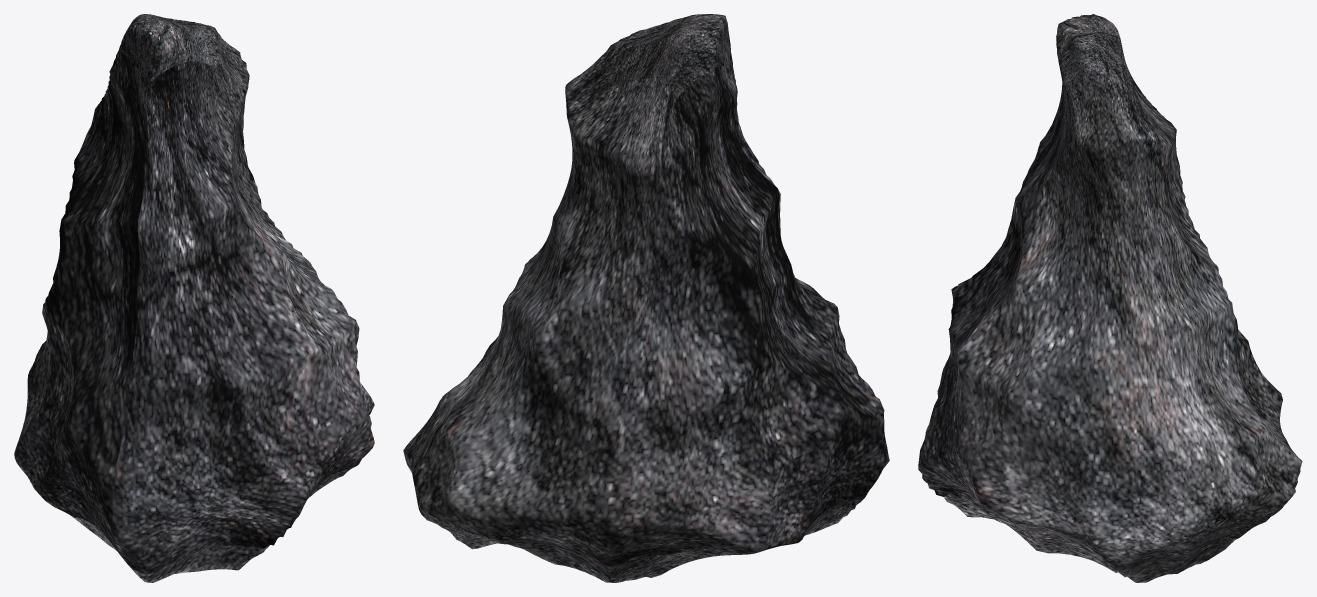
File: Pedra.Alta_LOD.fbx
The picture shows the model from 3 angles, left to right: view 1: azimuth 30°, elevation 25°; view 2: azimuth 150°, elevation 25°; view 3: azimuth 270°, elevation 25°; orthographic projection. The views are drawn at different scales.
Parts seen in each view (by area): view 1: Cube_LOD0; view 2: Cube_LOD0; view 3: Cube_LOD0.
Boxes of the visible parts, x1,y1,x2,y2 form: Cube_LOD0: [14, 14, 374, 582]; Cube_LOD0: [403, 14, 889, 582]; Cube_LOD0: [918, 14, 1302, 582].
Size of what is drawn, in the model's own units: 344 by 499 by 351.
1 material, 1 textured.
